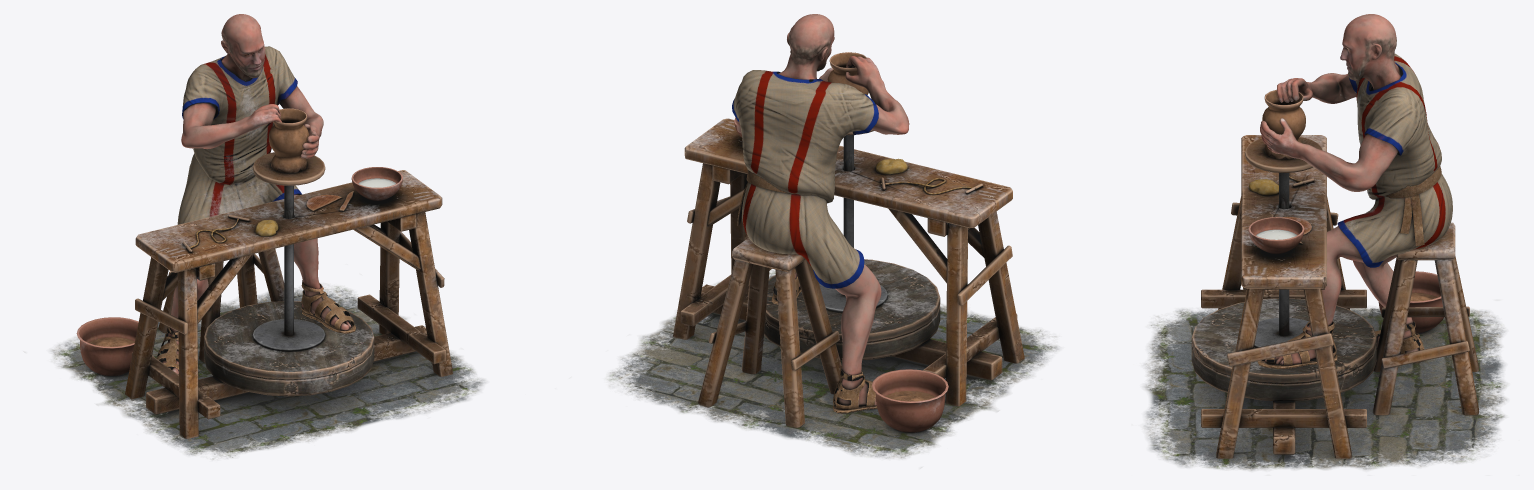
The picture shows the model from 3 angles, left to right: view 1: azimuth 30°, elevation 25°; view 2: azimuth 150°, elevation 25°; view 3: azimuth 270°, elevation 25°; orthographic projection. The views are drawn at different scales.
Visible parts, largest first — view 1: Wheel, Potter, Ground; view 2: Wheel, Potter, Ground; view 3: Wheel, Ground, Potter.
Part boxes in pixels (<box>): Wheel: <box>76,108,453,438</box>; Potter: <box>156,14,356,374</box>; Ground: <box>50,286,485,459</box>; Wheel: <box>673,52,1024,432</box>; Potter: <box>732,14,909,413</box>; Ground: <box>608,270,1059,458</box>; Wheel: <box>1191,89,1478,459</box>; Ground: <box>1143,307,1506,470</box>; Potter: <box>1257,14,1452,368</box>.
Bounding box in the file's own units: 2.35 × 2.31 × 2.19.
Materials: 3 (3 with a texture image).
